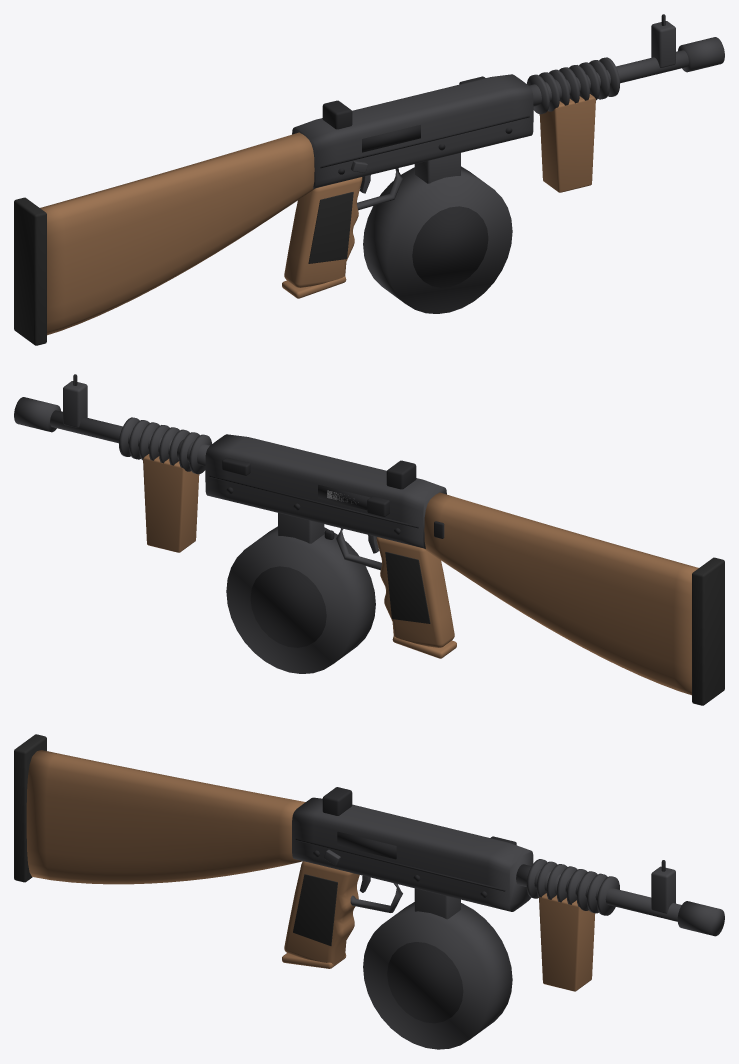
Rendered from SM_Thompson.glb.
3 renders of one model, top to bottom at view 1: azimuth 30°, elevation 25°; view 2: azimuth 150°, elevation 25°; view 3: azimuth 330°, elevation 25°, orthographic.
Visible parts, largest first — view 1: SM_Thompson; view 2: SM_Thompson; view 3: SM_Thompson.
Part boxes in pixels (<box>): SM_Thompson: <box>14,14,724,345</box>; SM_Thompson: <box>14,374,724,705</box>; SM_Thompson: <box>14,734,724,1049</box>.
Size of the model in its own units: 0.8295 by 0.2675 by 0.067.
